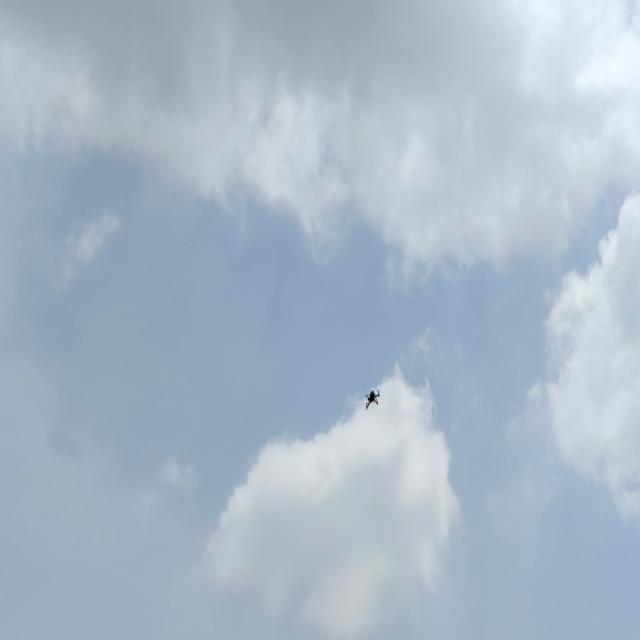drone: (357, 384, 386, 410)
